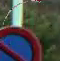No waiting: (0, 21, 43, 60)
